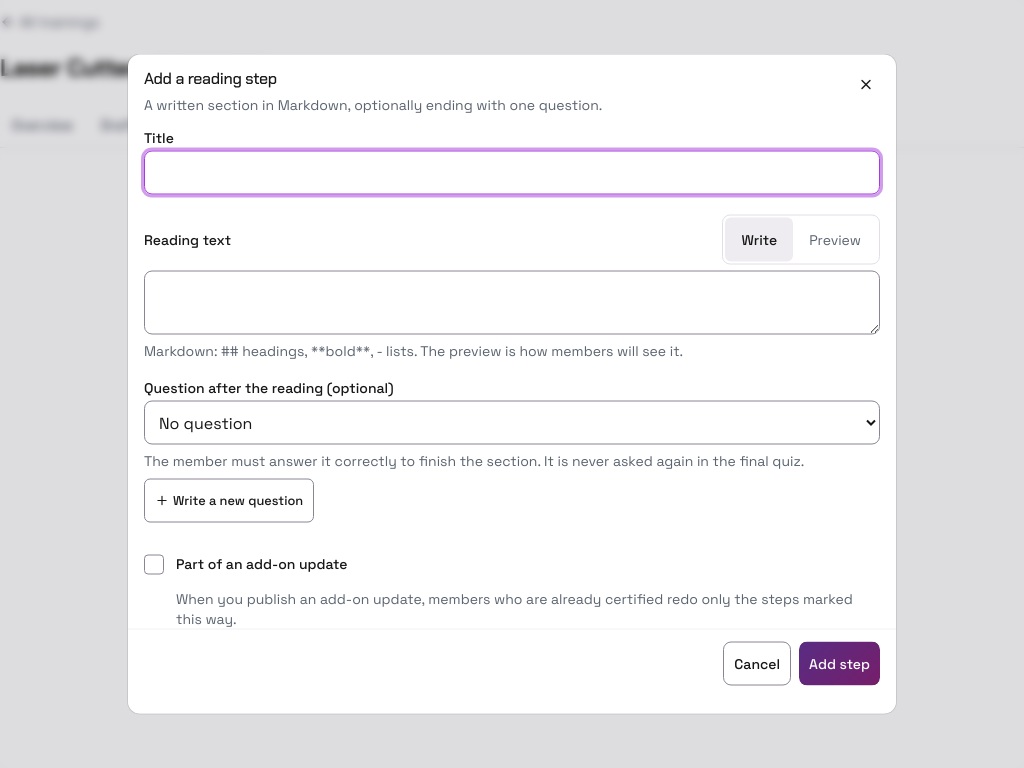
Test case: StepDialog reading steps › shows the server’s problem with the gate question
Expected: the heading "Laser Cutter" is shown, [0, 52, 138, 84]
In the field labelled "Title": (512,172) [144, 150, 880, 194], type "Read"
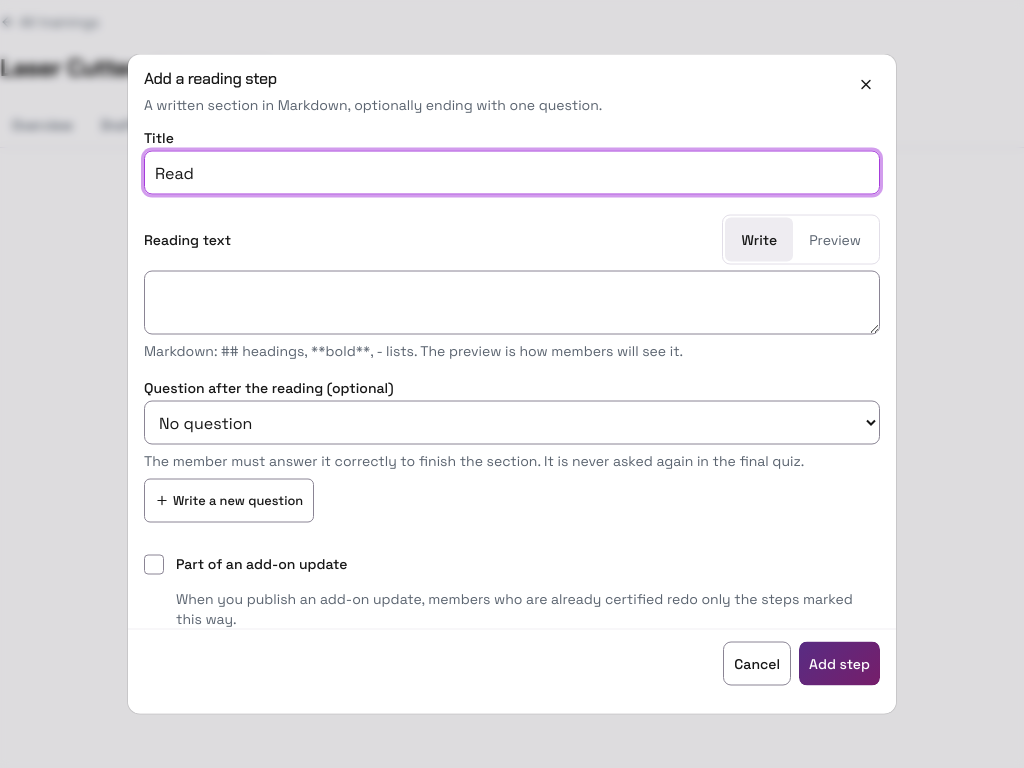
Click the button "Add step": (840,664) [799, 642, 880, 686]
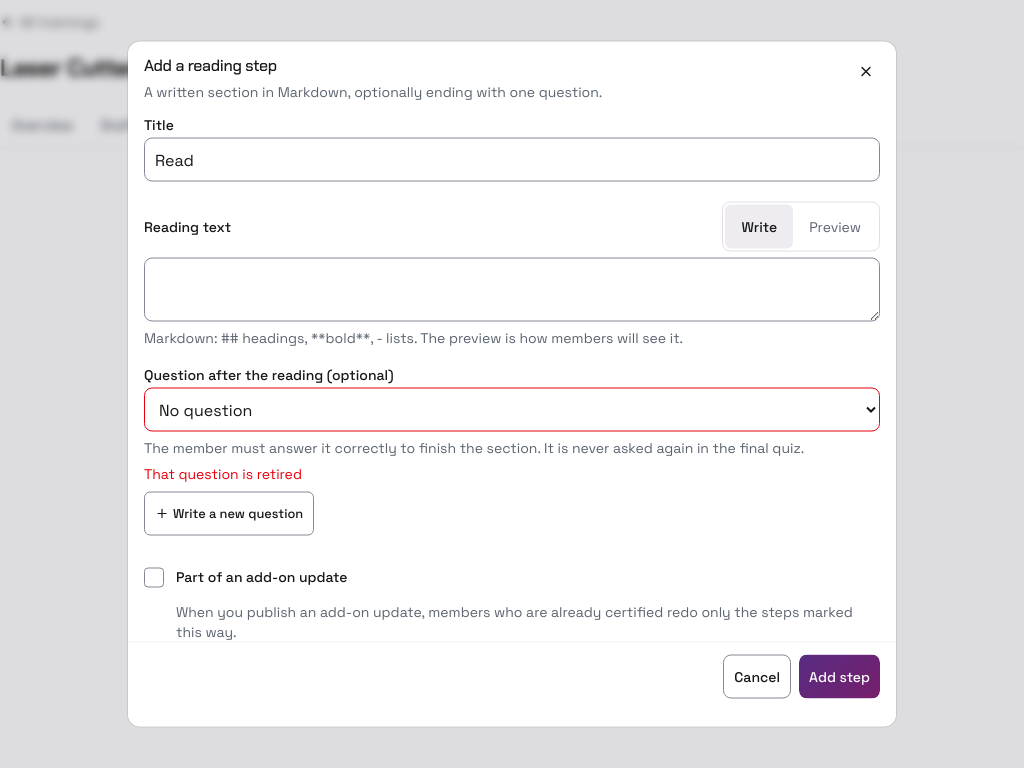
Result: the text "That question is retired" is shown at [144, 464, 302, 482]
